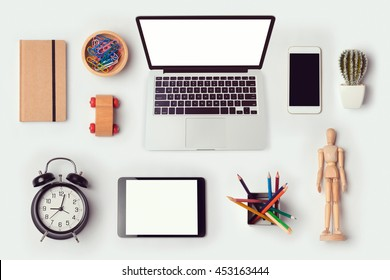not a gesture sign: (137, 17, 274, 150), (119, 178, 203, 235), (33, 183, 87, 229), (288, 46, 320, 112), (339, 50, 366, 108)
